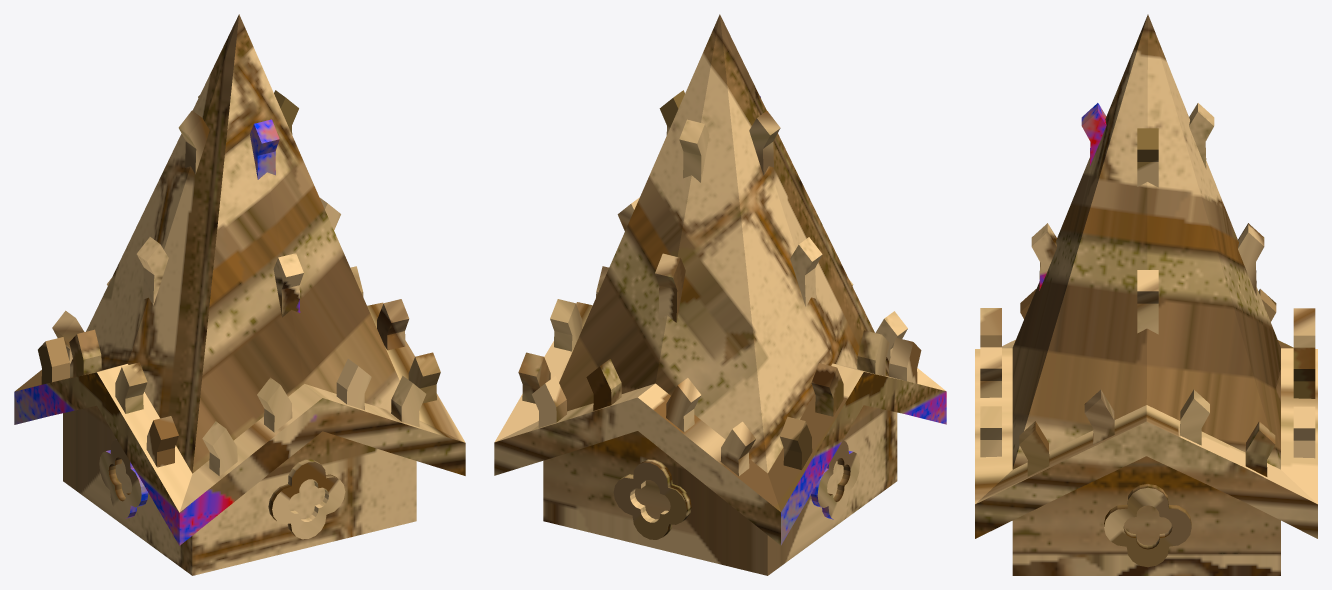
File: SM_Columna3Punta.fbx
3 views of the same model, side by side, from view 1: azimuth 30°, elevation 25°; view 2: azimuth 150°, elevation 25°; view 3: azimuth 270°, elevation 25° (orthographic). The views are drawn at different scales.
Parts seen in each view (by area): view 1: SM_Columna3Punta; view 2: SM_Columna3Punta; view 3: SM_Columna3Punta.
Boxes of the visible parts, x1,y1,x2,y2 form: SM_Columna3Punta: [14, 14, 465, 575]; SM_Columna3Punta: [494, 14, 946, 575]; SM_Columna3Punta: [975, 14, 1317, 575].
Size of the model in its own units: 92.28 by 150 by 92.28.
